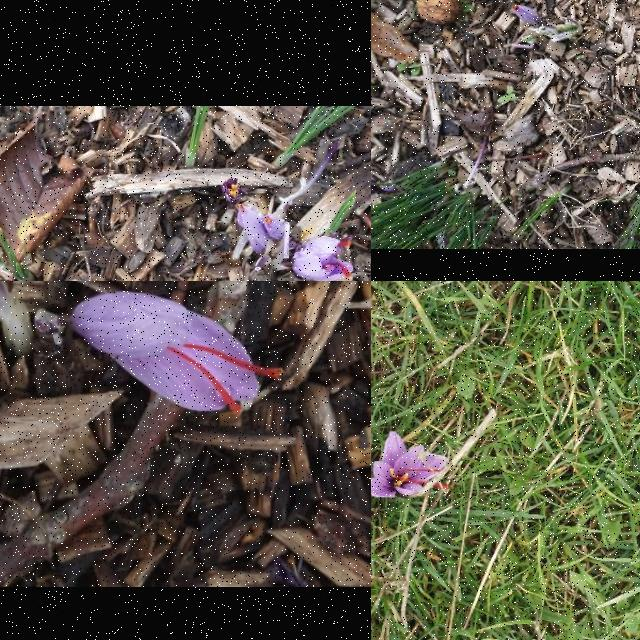flower: (63, 292, 284, 416), (371, 431, 448, 498), (513, 5, 543, 27)
overlap: (293, 236, 354, 281), (235, 204, 282, 256)
